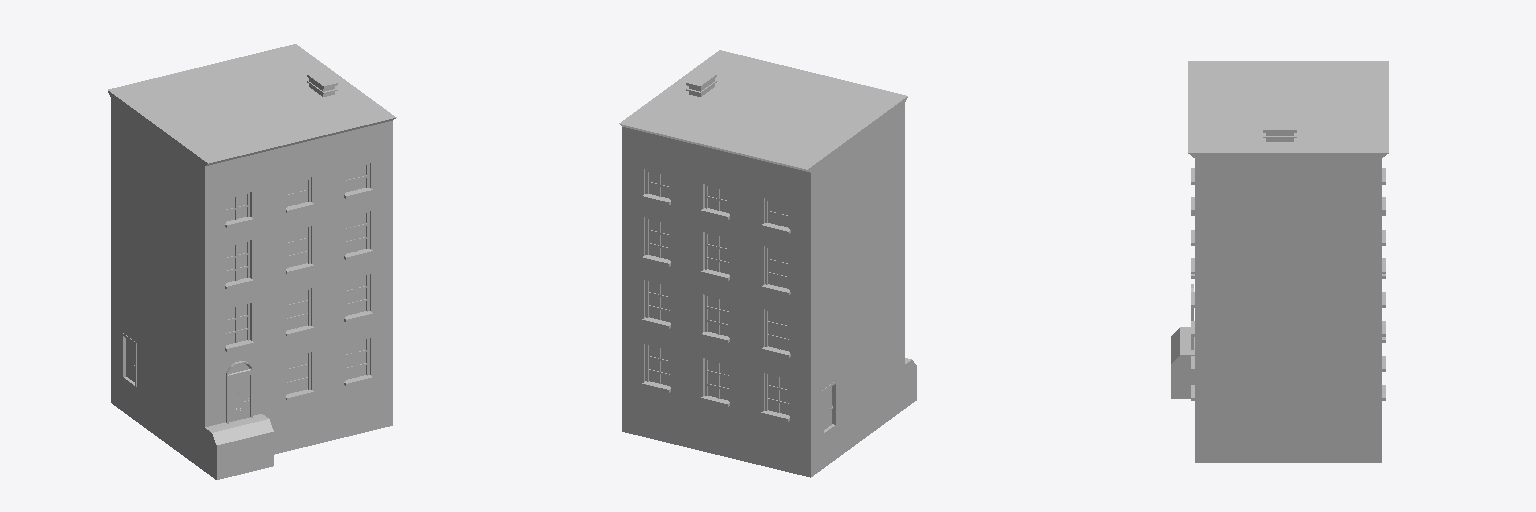
Rendered from EverythingLibrary_Buildings_GeorgianHome5.obj.
3 views of the same model, side by side, from view 1: azimuth 30°, elevation 25°; view 2: azimuth 150°, elevation 25°; view 3: azimuth 270°, elevation 25° (orthographic).
Visible parts, largest first — view 1: base.107_Mesh.308, windowRefl.077_Mesh.306; view 2: base.107_Mesh.308, windowRefl.077_Mesh.306; view 3: base.107_Mesh.308.
Part boxes in pixels (x1,y1,x2,y2): base.107_Mesh.308: (108,44,396,479); windowRefl.077_Mesh.306: (226,166,365,393); base.107_Mesh.308: (619,50,916,477); windowRefl.077_Mesh.306: (649,172,788,414); base.107_Mesh.308: (1171,61,1388,462).
Bounding box in the file's own units: 10.81 × 17.64 × 10.83.